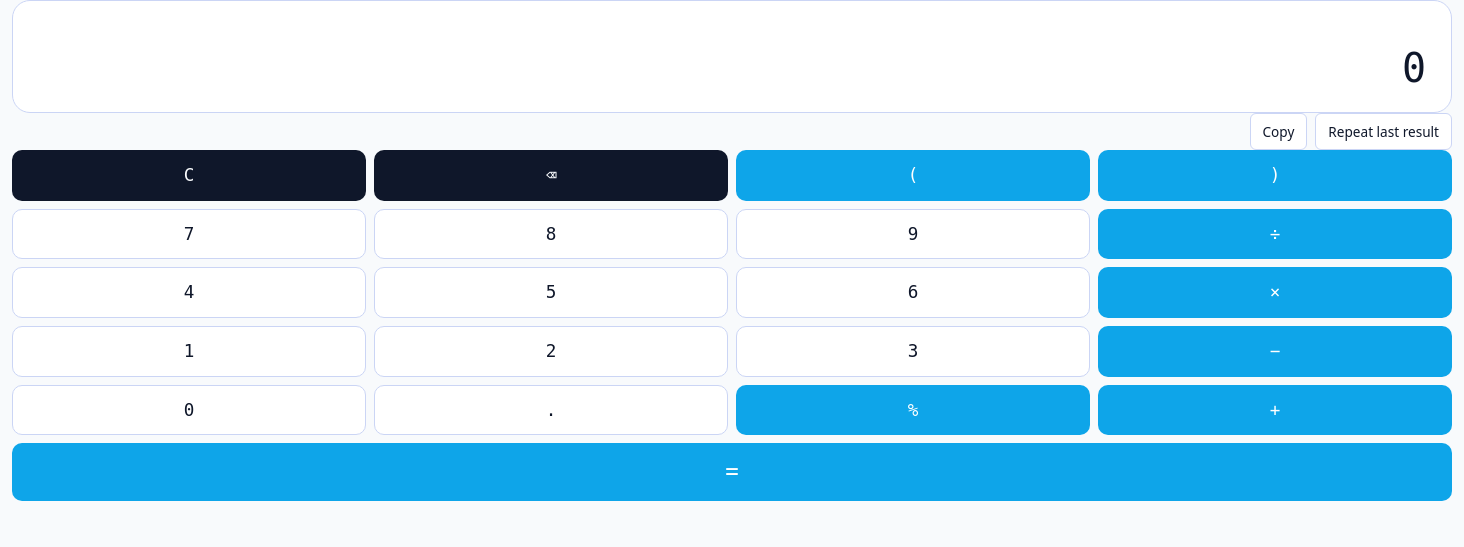
Test: BasicView interactions › reports a division-by-zero error and allows recovery
What coordinates should you click on to do the following:
click the button "5"
I would click on:
 (551, 293)
Its box is [374, 267, 728, 318].
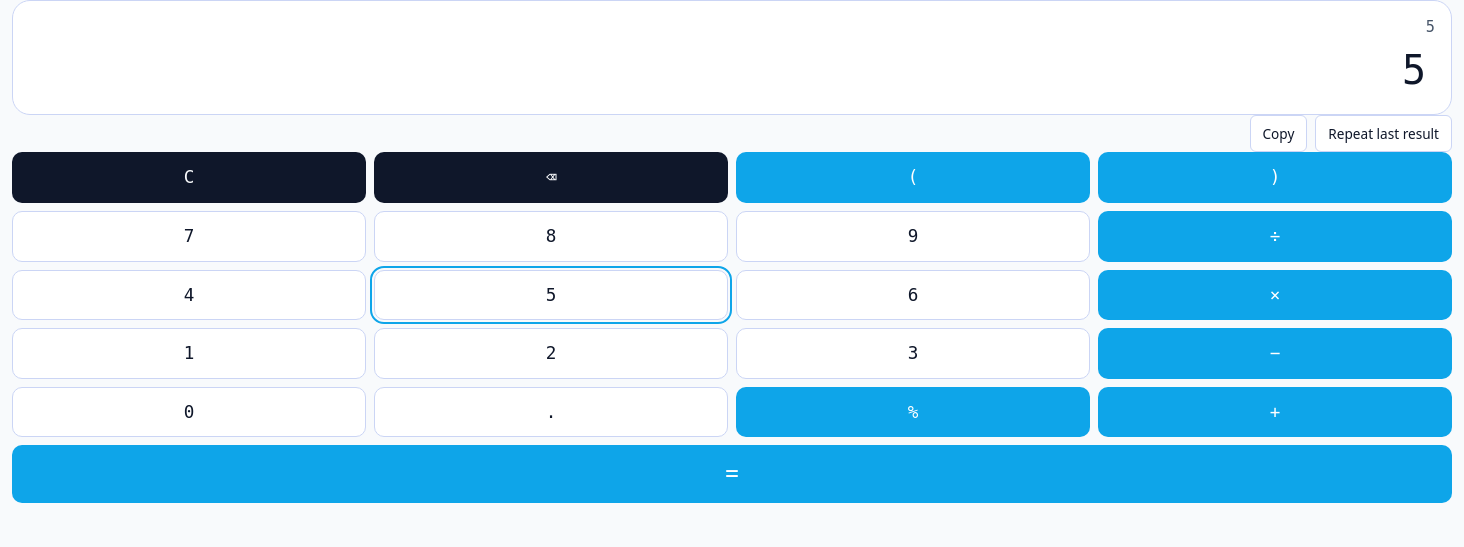
What coordinates should you click on to do the following:
click the button "÷"
I would click on:
 (1275, 236)
Its box is [1098, 211, 1452, 262].
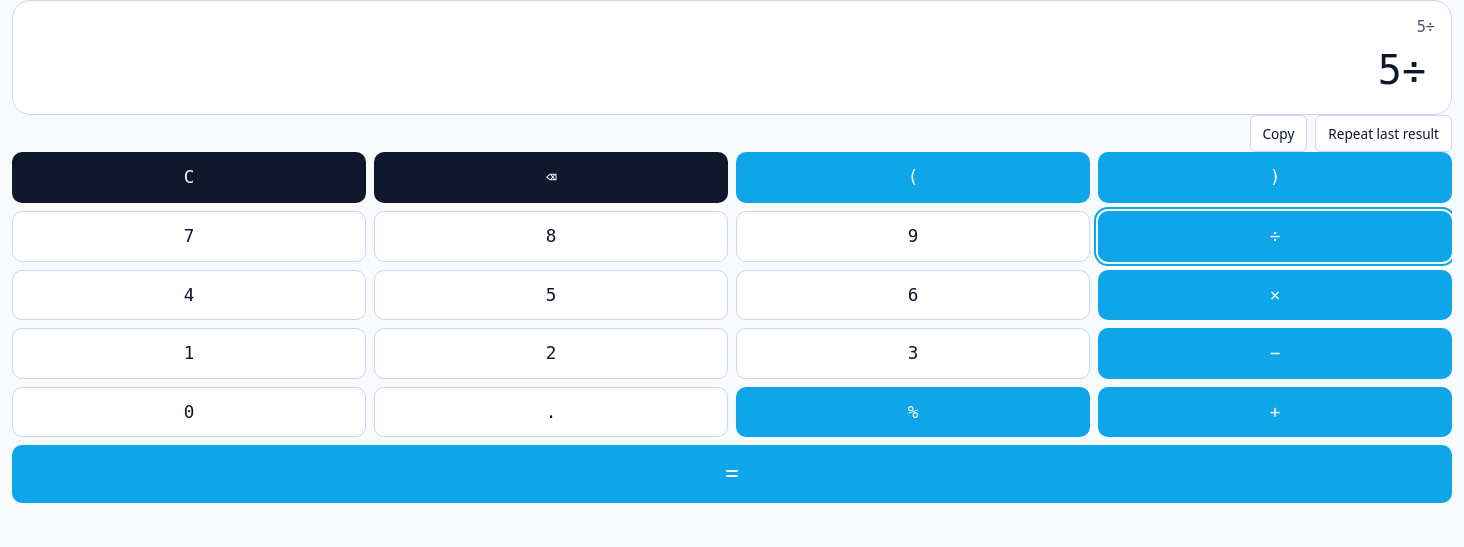
What coordinates should you click on to do the following:
click the button "0"
I would click on:
 (189, 412)
Its box is [12, 387, 366, 437].
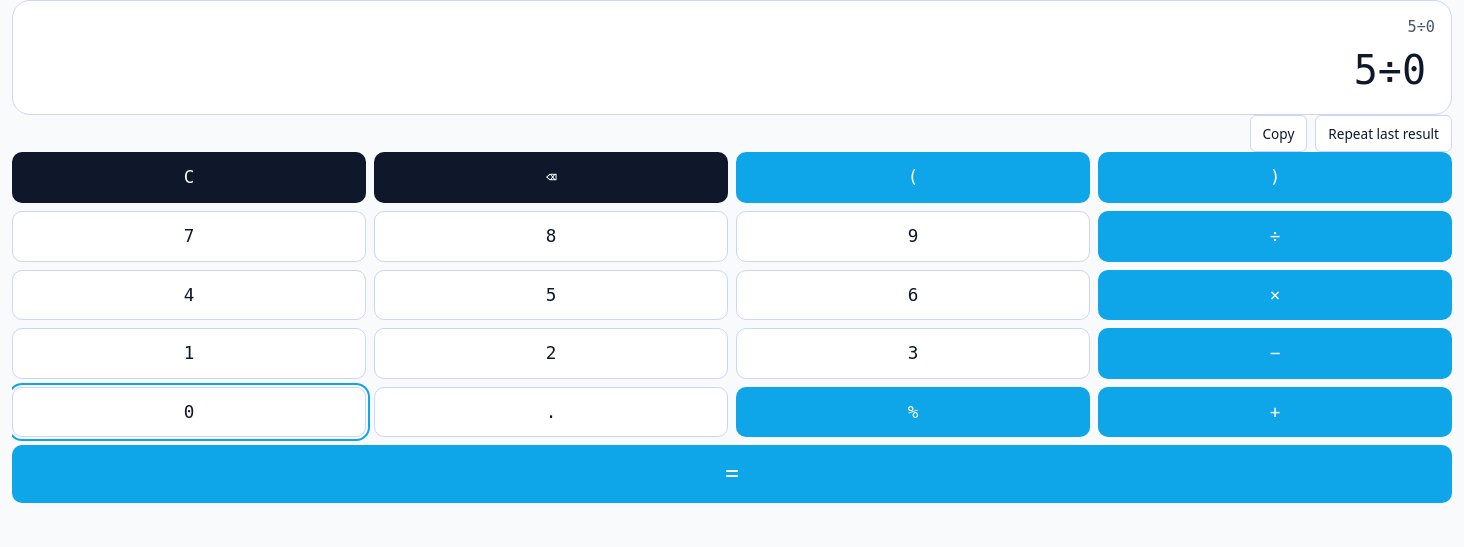
What coordinates should you click on to do the following:
click the button with test id "key-equals"
I would click on:
 (732, 474)
Its box is [12, 445, 1452, 503].
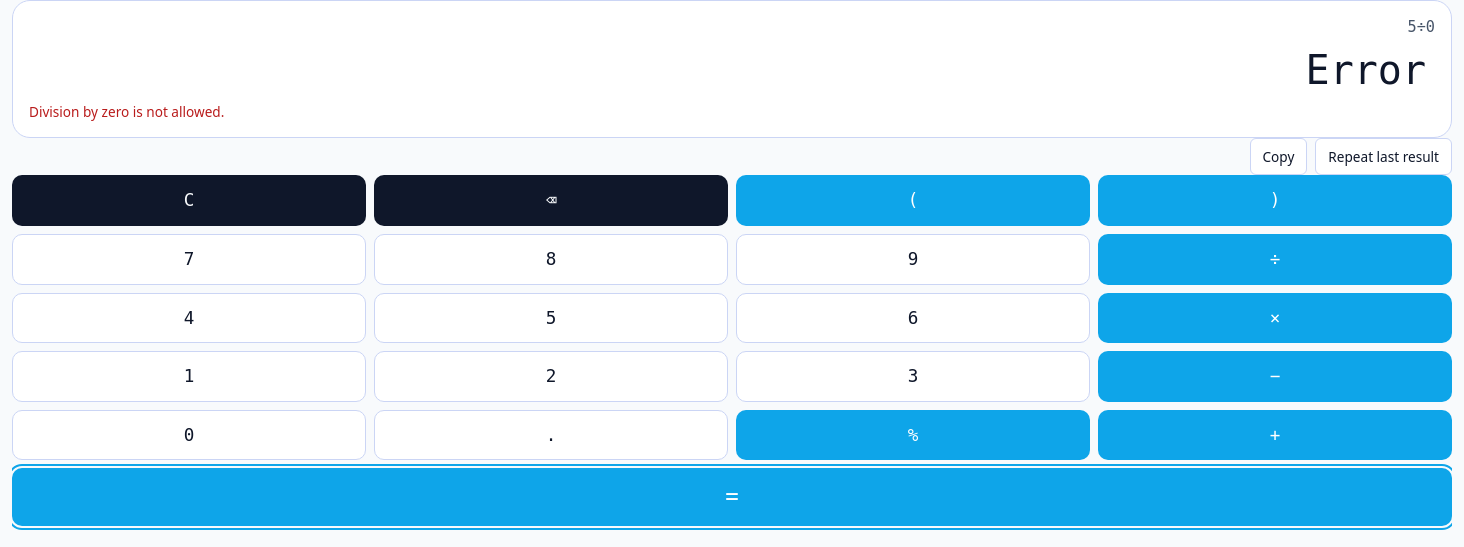
expect the message "Division by zero is not allowed." is shown: met, box [29, 102, 224, 121]
What coordinates should you click on to do the following:
click the button "C"
I would click on:
 (189, 201)
Its box is [12, 175, 366, 226].
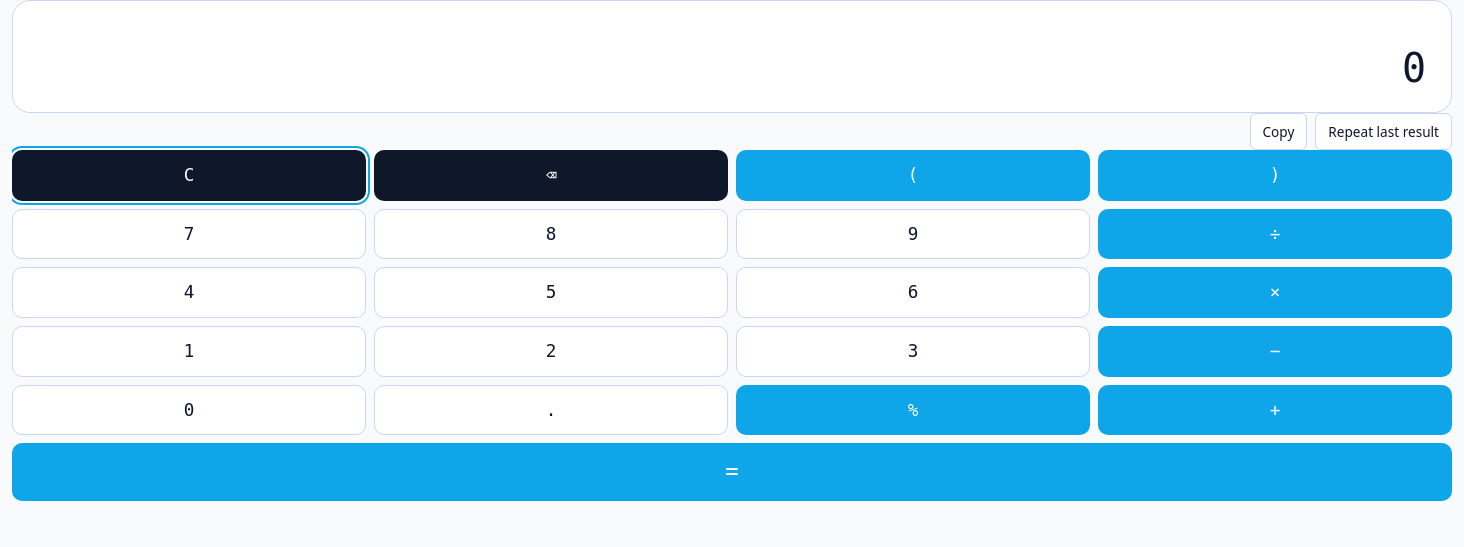
expect the field with test id "display-value" holds "0": met, box [29, 40, 1435, 96]
